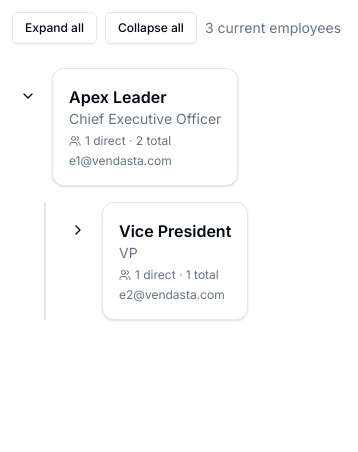
Test: OrgChartTree › shows the CEO first and keeps deeper reports collapsed by default
Expected: the heading "Vice President" is shown, [119,219,231,243]
Expected: the text "Deep Report" is not shown
Click the button named "expand vice president" at (78, 230), box [62,214,94,246]
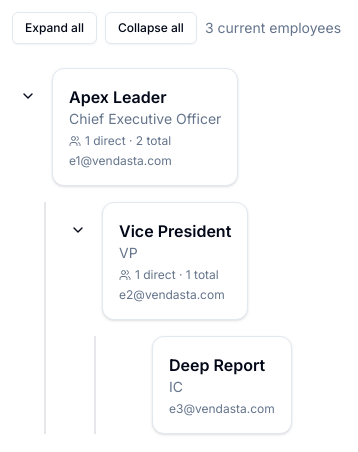
Now the heading "Deep Report" is shown, box [169,353,275,377]
